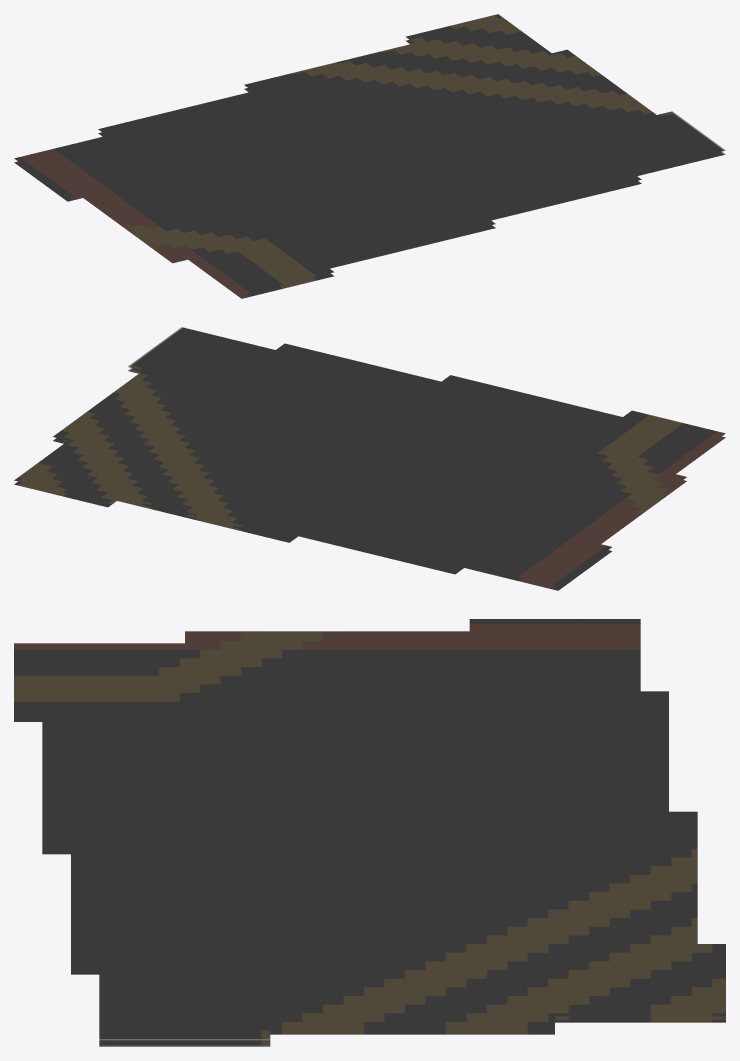
File: Card.fbx
The picture shows the model from 3 angles, top to bottom: view 1: azimuth 30°, elevation 25°; view 2: azimuth 150°, elevation 25°; view 3: azimuth 270°, elevation 25°; orthographic projection. The views are drawn at different scales.
Visible parts, largest first — view 1: 1公交卡.001; view 2: 1公交卡.001; view 3: 1公交卡.001.
Boxes of the visible parts, x1,y1,x2,y2 form: 1公交卡.001: (14, 14, 725, 298); 1公交卡.001: (14, 327, 725, 590); 1公交卡.001: (14, 619, 725, 1046).
Bounding box in the file's own units: 7000 × 50 × 5000.
